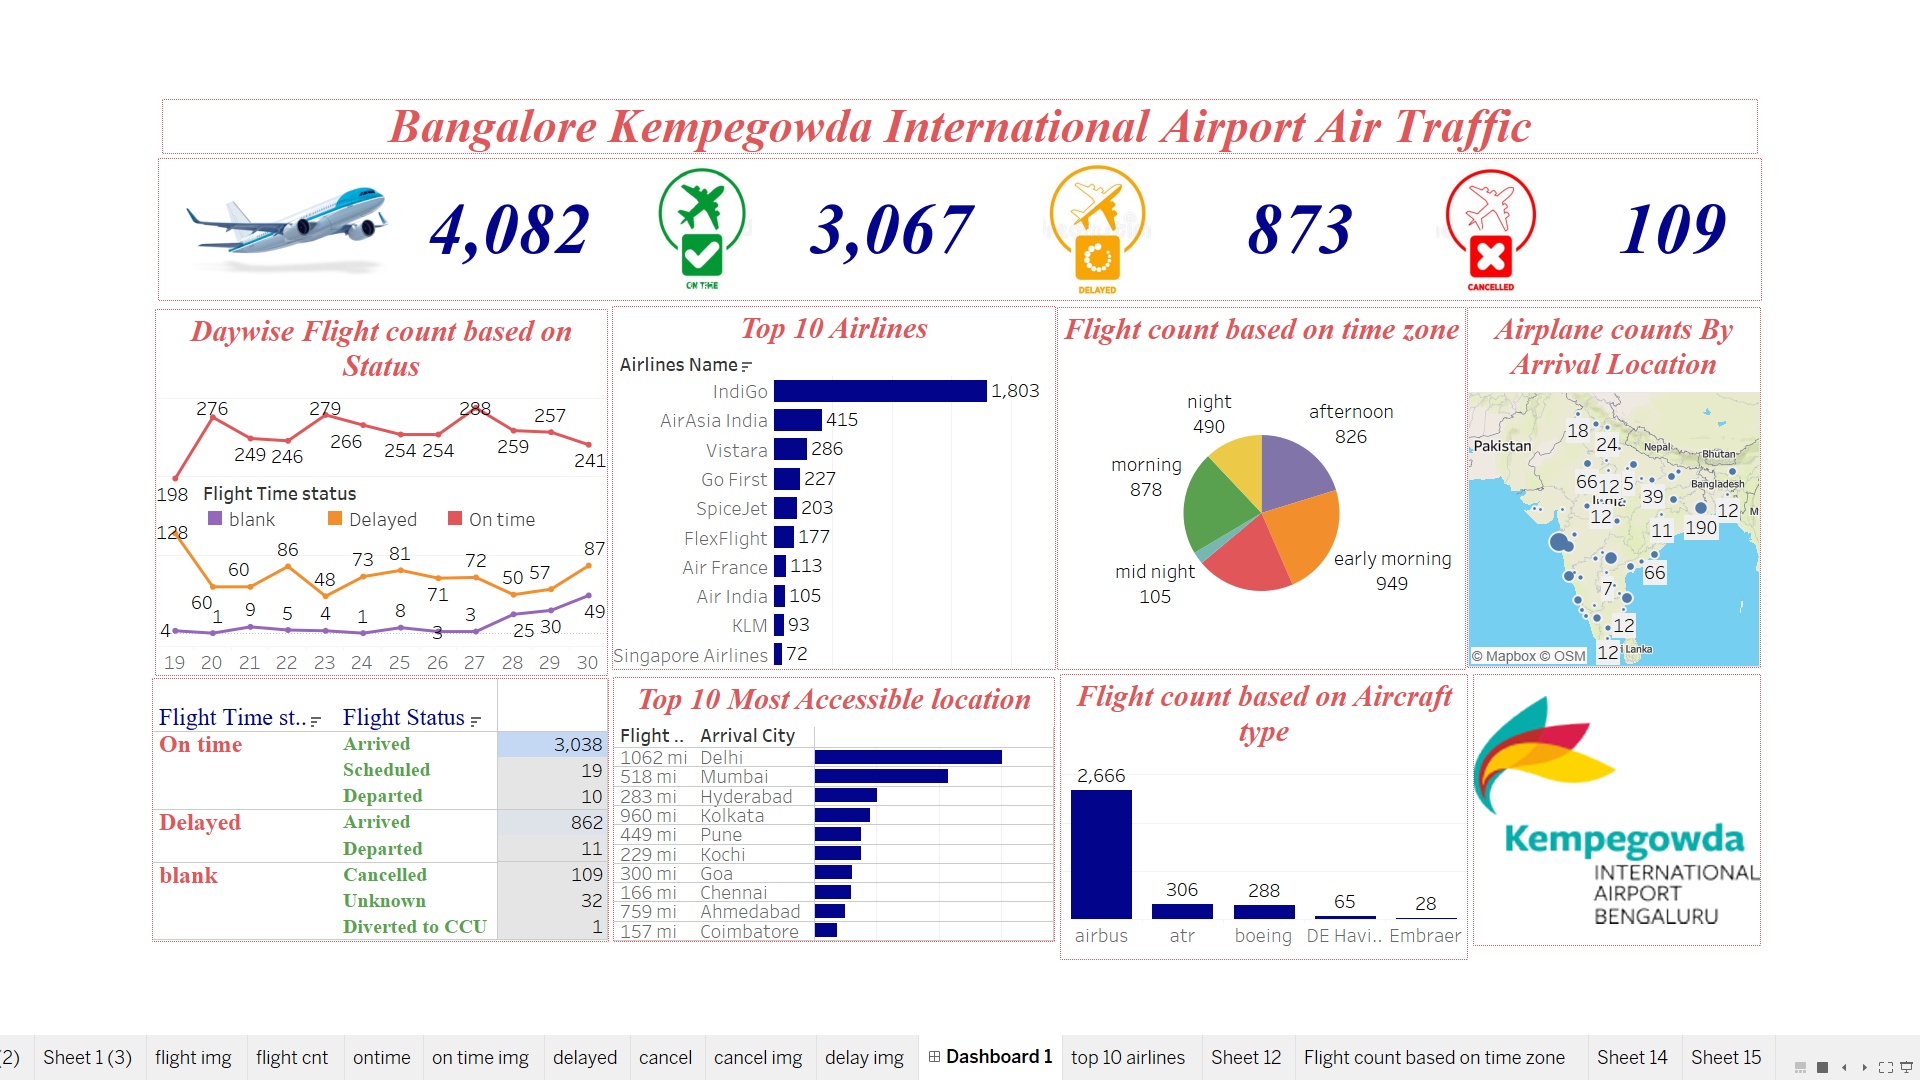

The page's visual inventory and layout, read from the dashboard file:
{"tool":"tableau","page":{"name":"Dashboard 1","canvas":[1300,700],"ordinal":0},"visuals":[{"type":"text","box":[8,8,1284,37]},{"type":"image","param":"Image/download.png","box":[8,48,161,88]},{"type":"worksheet","title":"Count of flights","mark":"Automatic","box":[169,48,161,88]},{"type":"image","param":"Image/on time.jpg","box":[330,48,161,88]},{"type":"worksheet","title":"Ontime","mark":"Automatic","box":[491,48,161,88]},{"type":"image","param":"Image/Del.jpg","box":[652,48,160,88]},{"type":"worksheet","title":"Delayed","mark":"Automatic","box":[812,48,160,88]},{"type":"image","param":"Image/can.jpg","box":[972,48,160,88]},{"type":"worksheet","title":"Cancelled","mark":"Automatic","box":[1132,48,160,88]},{"type":"worksheet","title":"Daywise","mark":"Line","rows":["Flight_Time_status"],"cols":["Date_wise"],"box":[8,136,314.8,303]},{"type":"worksheet","title":"Top 10 airlines","mark":"Bar","rows":["Airlines_Name"],"cols":["Flight_No"],"box":[322.8,136,299,303]},{"type":"worksheet","title":"Flight Count Based","mark":"Pie","cols":["Calculation_436567694304628738","Calculation_436567694304686084"],"box":[621.8,136,350.2,303]},{"type":"worksheet","title":"Airoplane Count","mark":"Automatic","box":[972,136,320,303]},{"type":"worksheet","title":"Flight status","mark":"Automatic","rows":["Flight_Time_status","Flight_Status"],"box":[8,439,334,253]},{"type":"worksheet","title":"Acessible location","mark":"Automatic","rows":["Flight_distance","Arrival_City"],"cols":["Flight_No"],"box":[342,439,412.5,253]},{"type":"worksheet","title":"Based on airtype","mark":"Automatic","rows":["Flight_No"],"box":[754.5,439,337,253]},{"type":"image","param":"Image/logo.png","box":[1091.5,439,200.5,253]}]}

Visuals, with their boxes on the page's 1300x700 design canvas (x1, y1, x2, y2). These are canvas units, not pixel positions in the 1920x1080 screenshot, which may show the page scaled, cropped or inside an application window:
text: <bbox>8, 8, 1292, 45</bbox>
image: <bbox>8, 48, 169, 136</bbox>
"Count of flights" worksheet: <bbox>169, 48, 330, 136</bbox>
image: <bbox>330, 48, 491, 136</bbox>
"Ontime" worksheet: <bbox>491, 48, 652, 136</bbox>
image: <bbox>652, 48, 812, 136</bbox>
"Delayed" worksheet: <bbox>812, 48, 972, 136</bbox>
image: <bbox>972, 48, 1132, 136</bbox>
"Cancelled" worksheet: <bbox>1132, 48, 1292, 136</bbox>
"Daywise" worksheet (Line marks): <bbox>8, 136, 323, 439</bbox>
"Top 10 airlines" worksheet (Bar marks): <bbox>323, 136, 622, 439</bbox>
"Flight Count Based" worksheet (Pie marks): <bbox>622, 136, 972, 439</bbox>
"Airoplane Count" worksheet: <bbox>972, 136, 1292, 439</bbox>
"Flight status" worksheet: <bbox>8, 439, 342, 692</bbox>
"Acessible location" worksheet: <bbox>342, 439, 754, 692</bbox>
"Based on airtype" worksheet: <bbox>754, 439, 1092, 692</bbox>
image: <bbox>1092, 439, 1292, 692</bbox>
